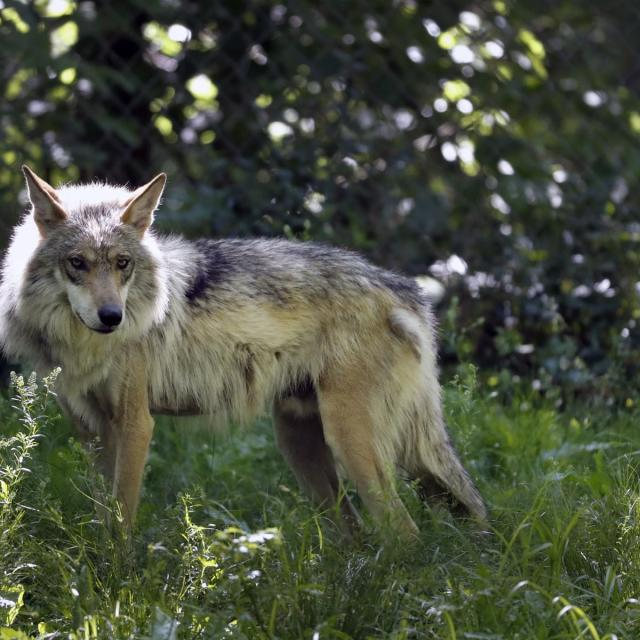Wolf: (0, 163, 493, 555)
